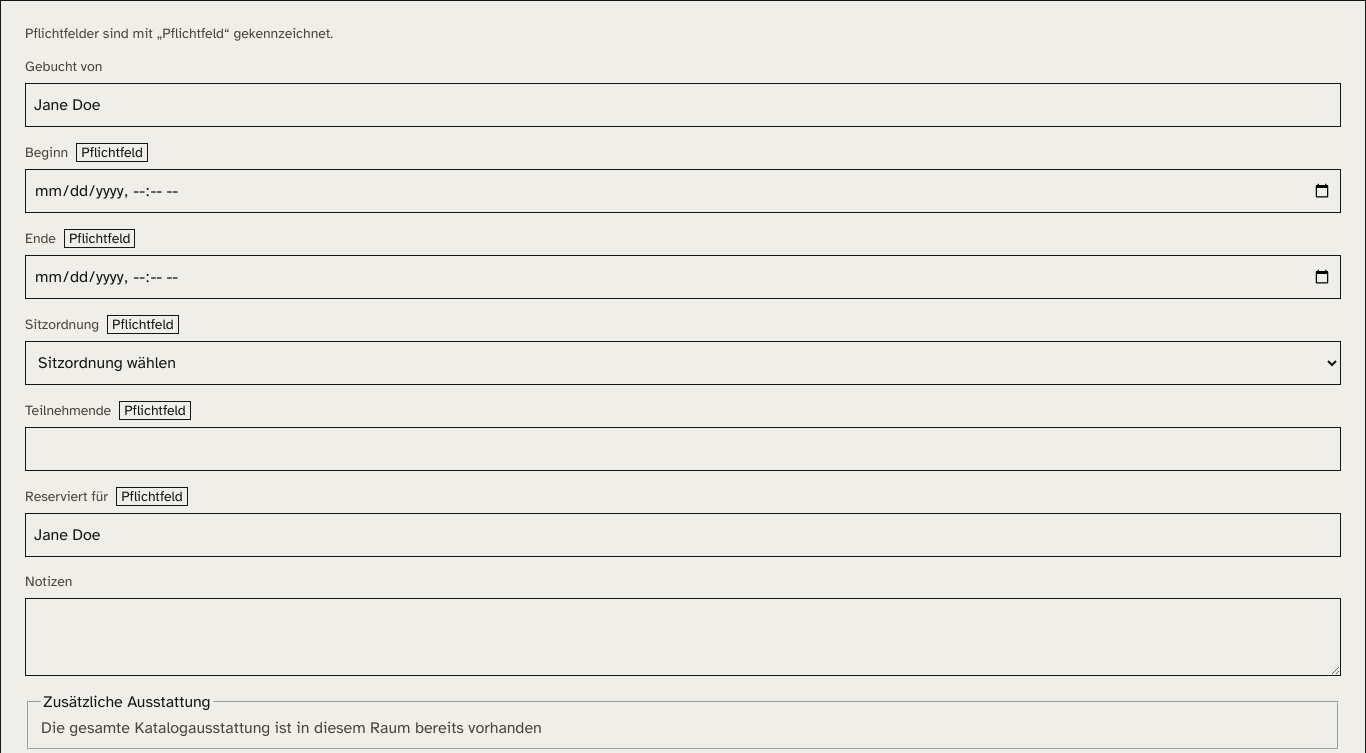
Test: ReservationForm › displays conflict message and link to /rooms when booking conflicts with an existing reservation
The image size is (1366, 753).
Type "2026-10-01T10:00" into the field labelled "Beginn" at [683, 191], box [25,169,1341,213]
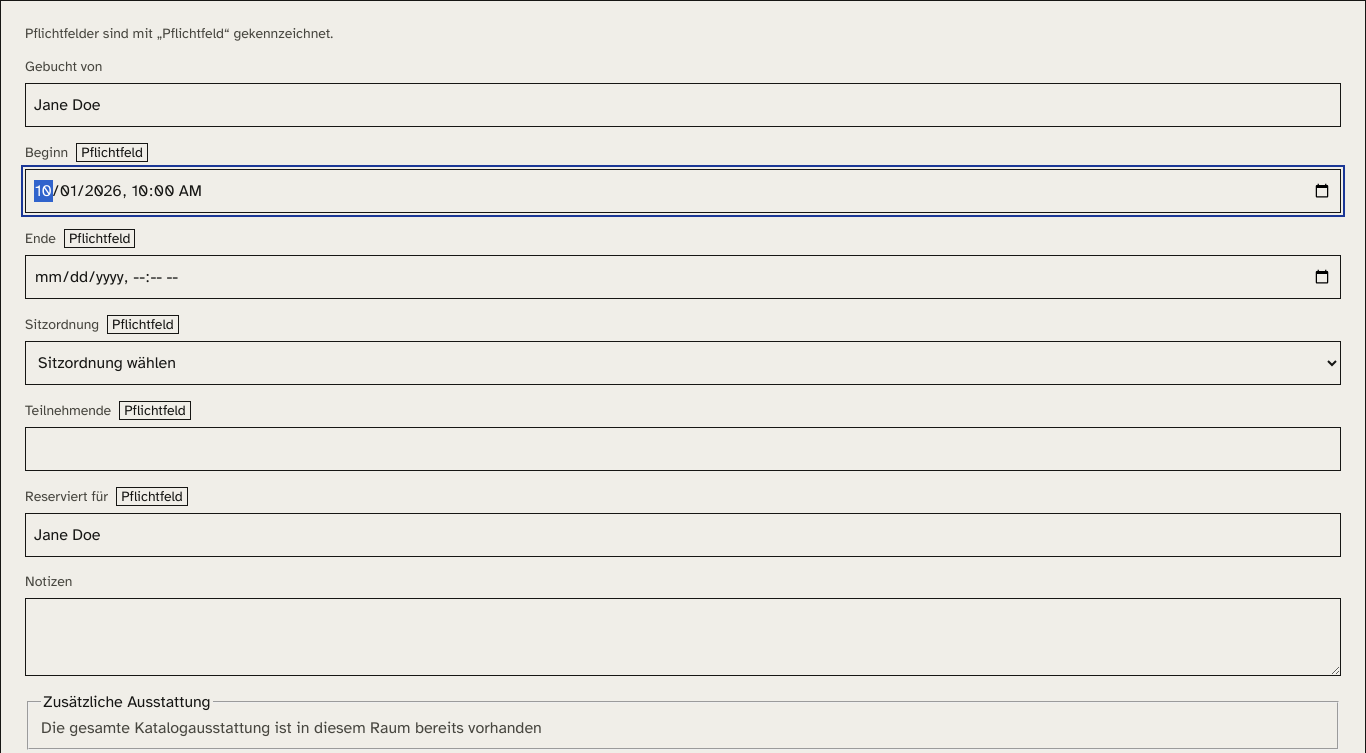
Type "2026-10-01T11:30" into the field labelled "Ende" at [683, 277], box [25,255,1341,299]
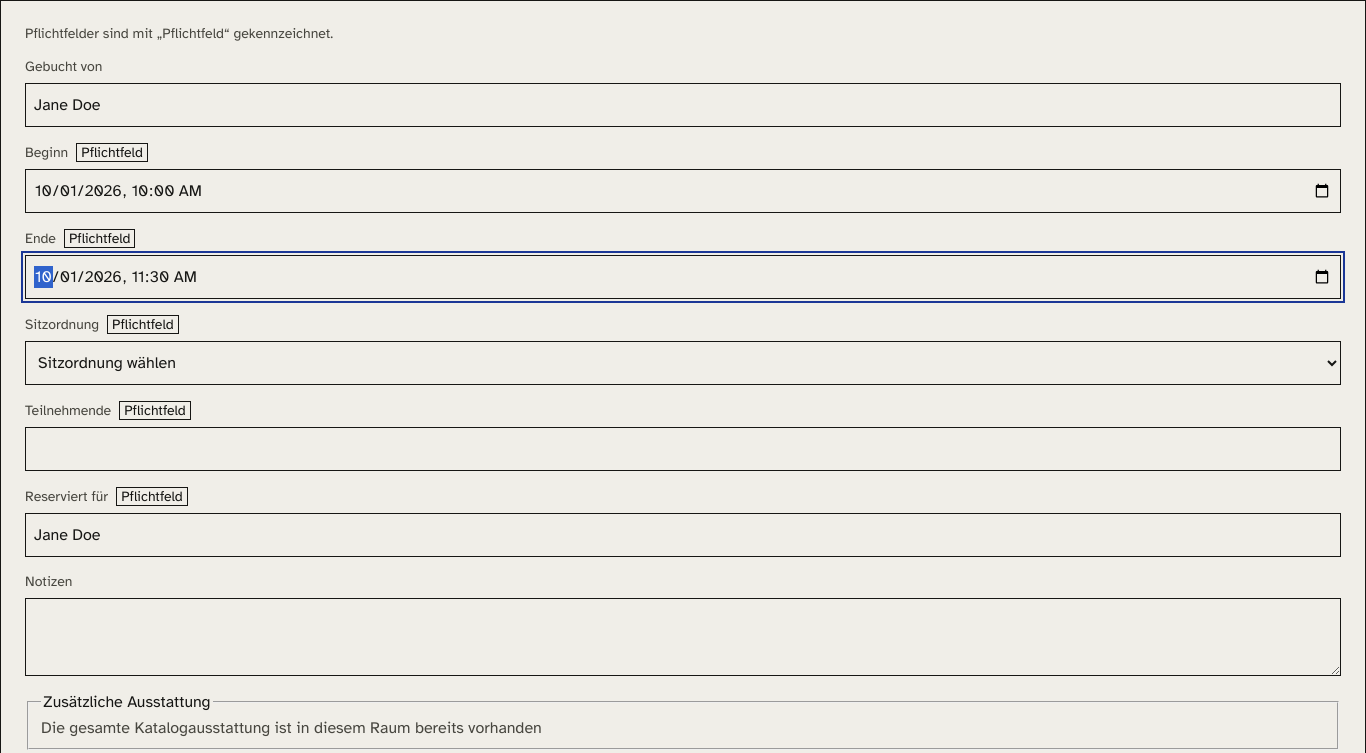
Select "Theater (Capacity: 40)" in the dropdown labelled "Sitzordnung" at [683, 363], box [25,341,1341,385]
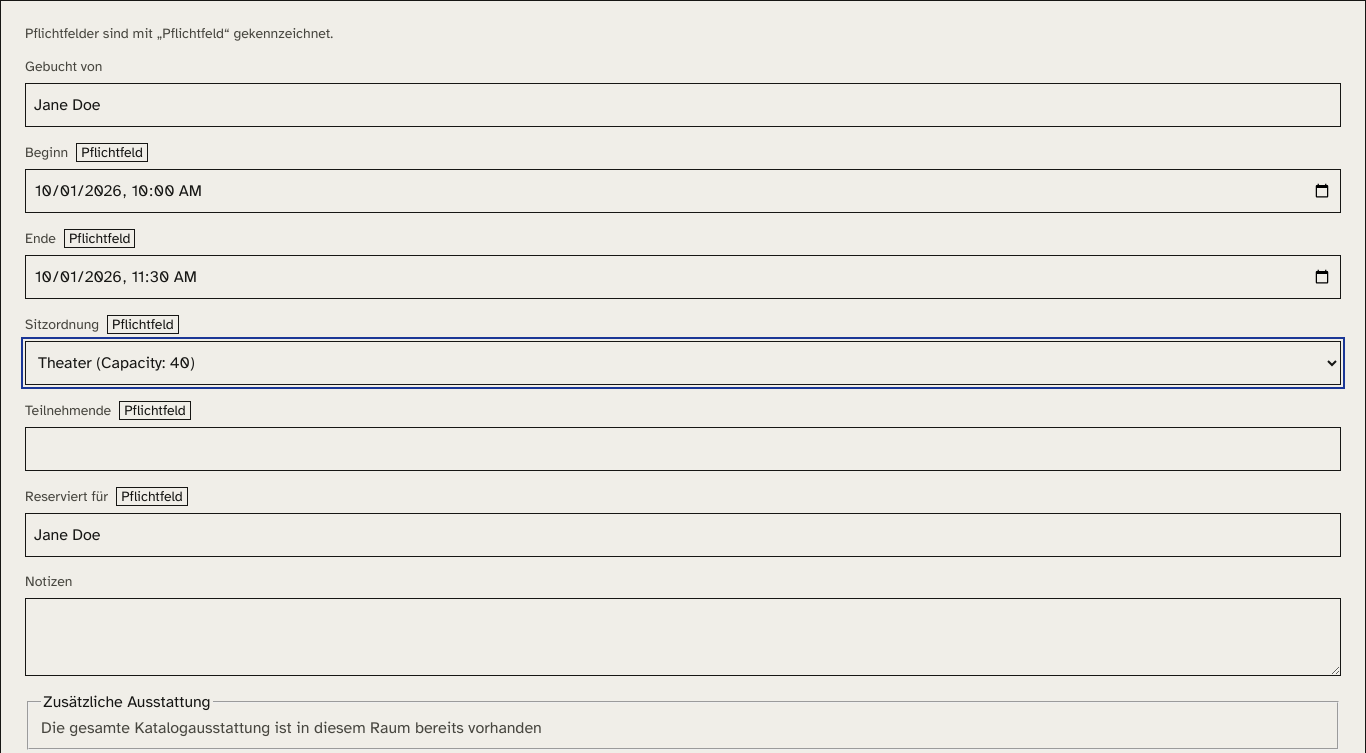
Type "30" into the number field labelled "Teilnehmende" at [683, 449], box [25,427,1341,471]
(page scrolled)
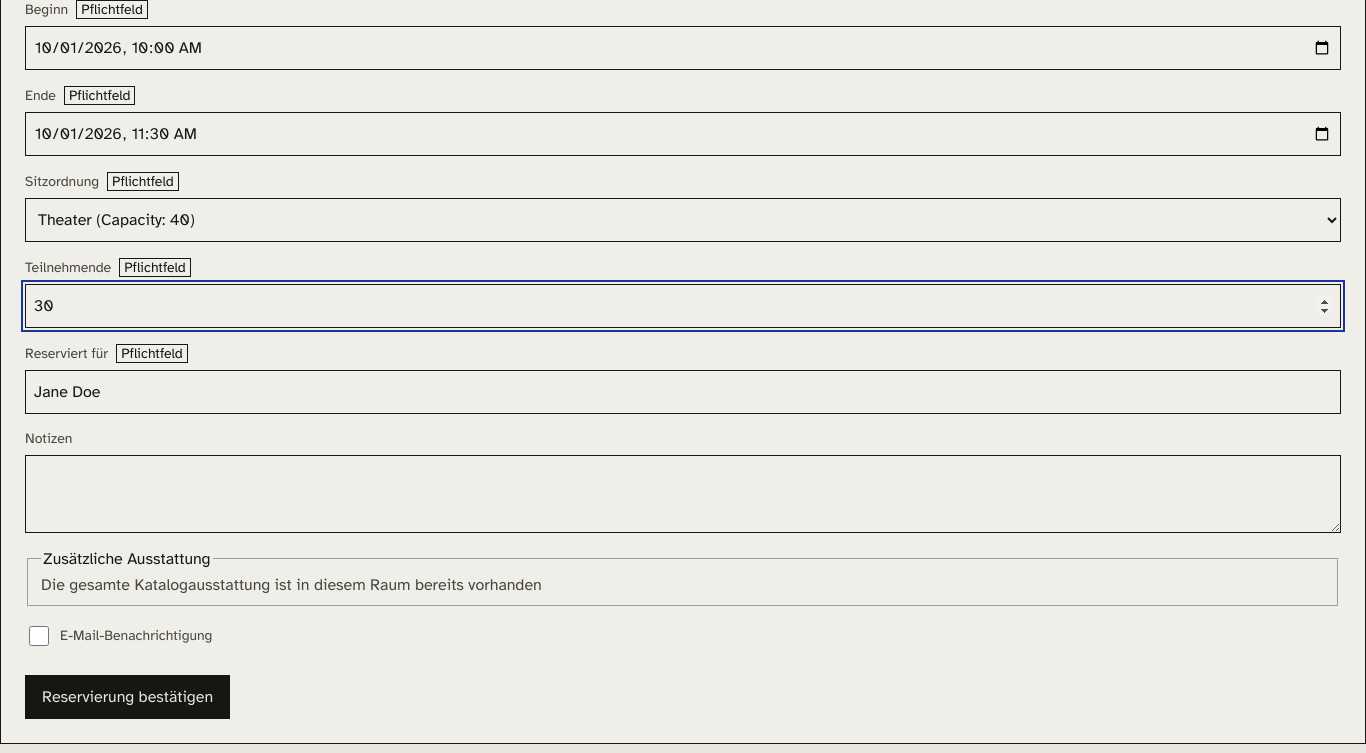
Click the button "Reservierung bestätigen" at [128, 697], box [25,675,230,719]
(page scrolled)
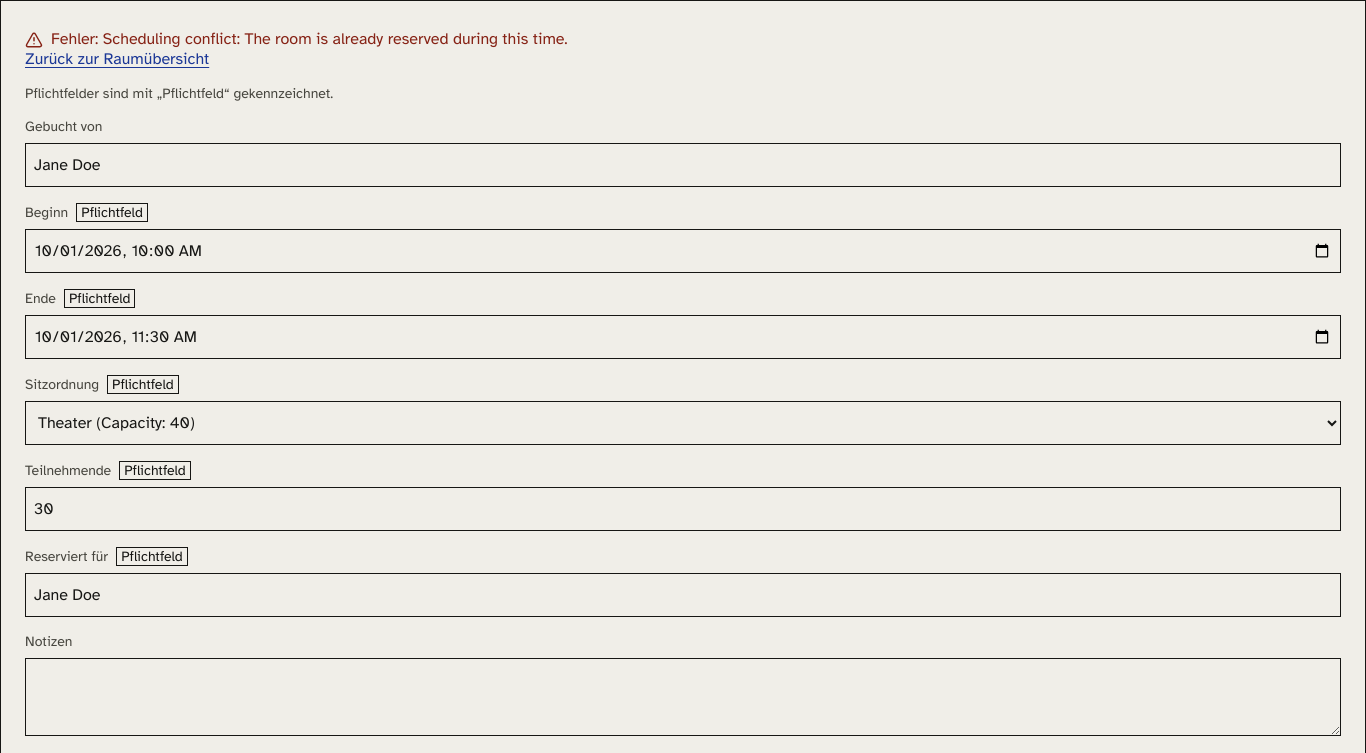
Expected: the element that starts with "Fehler:" is shown, [25,29,568,69]
Expected: the message shows "Scheduling conflict", [103,29,568,49]
Expected: the link "Zurück zur Raumübersicht" is shown, [25,49,209,69]
